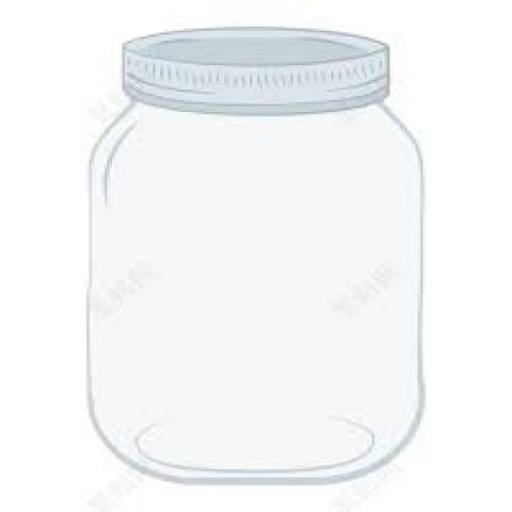glass: (82, 96, 424, 484)
metal: (120, 24, 385, 113)
